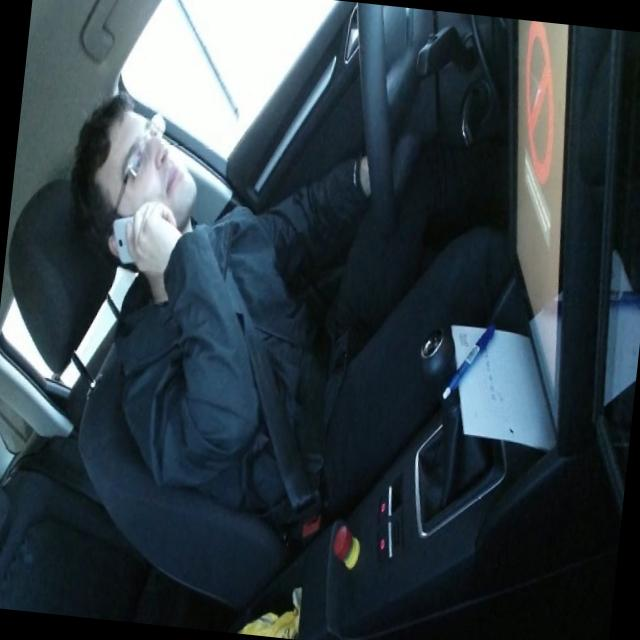pen: (440, 316, 496, 404)
